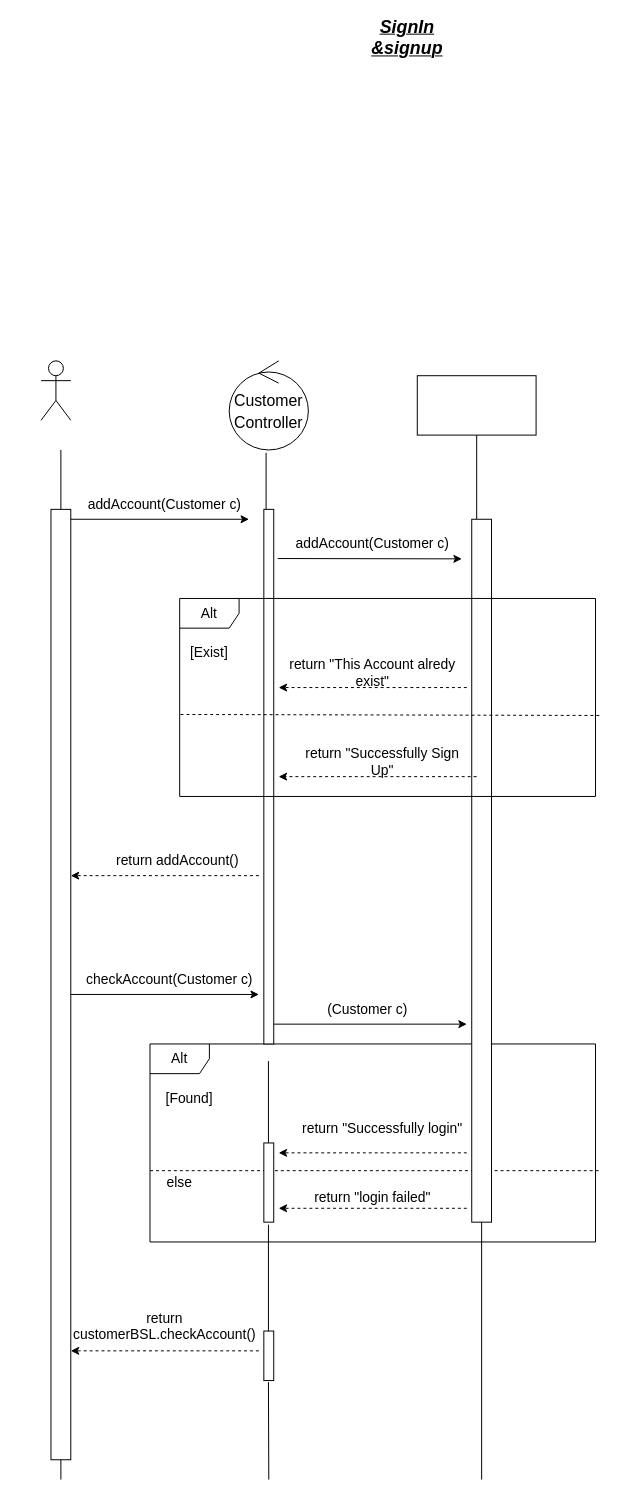
This 620x1498 diagram has some shape labels left out. Each missing label, with the box of its shape:
Customer: (40, 360, 71, 420)
CustomerBsl: (416, 375, 536, 435)
